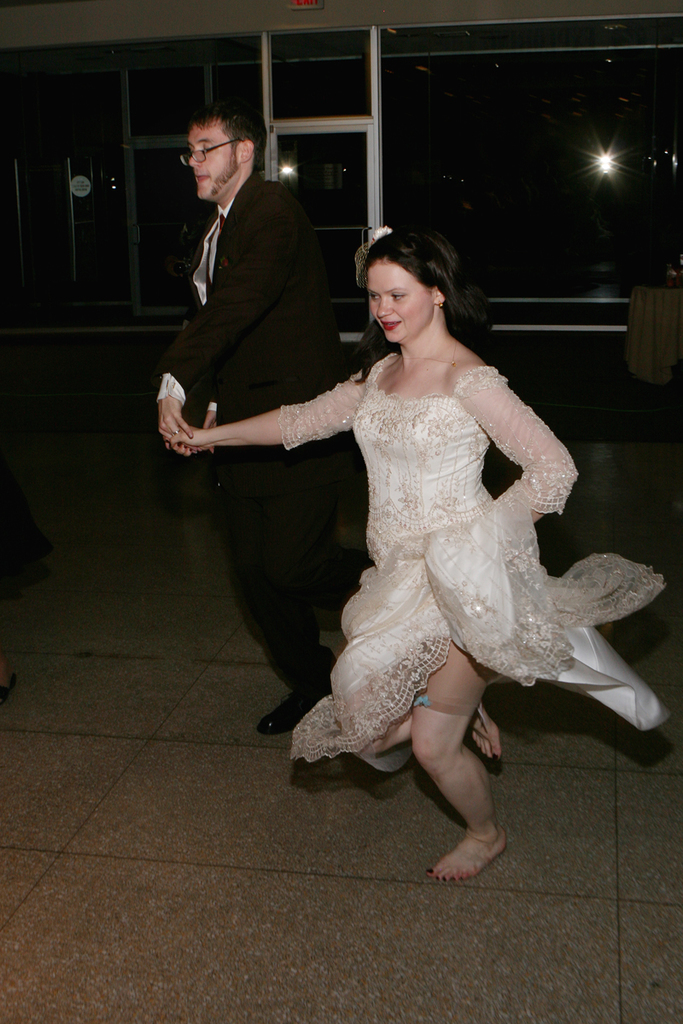Footwear: (257, 683, 335, 736)
